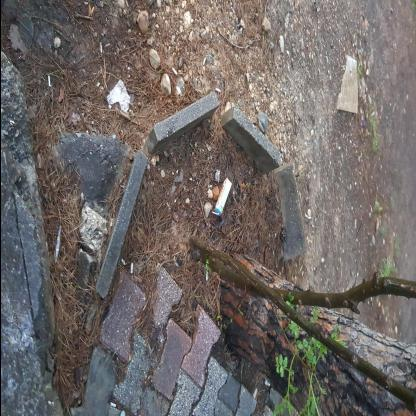karton: (200, 214, 238, 232)
